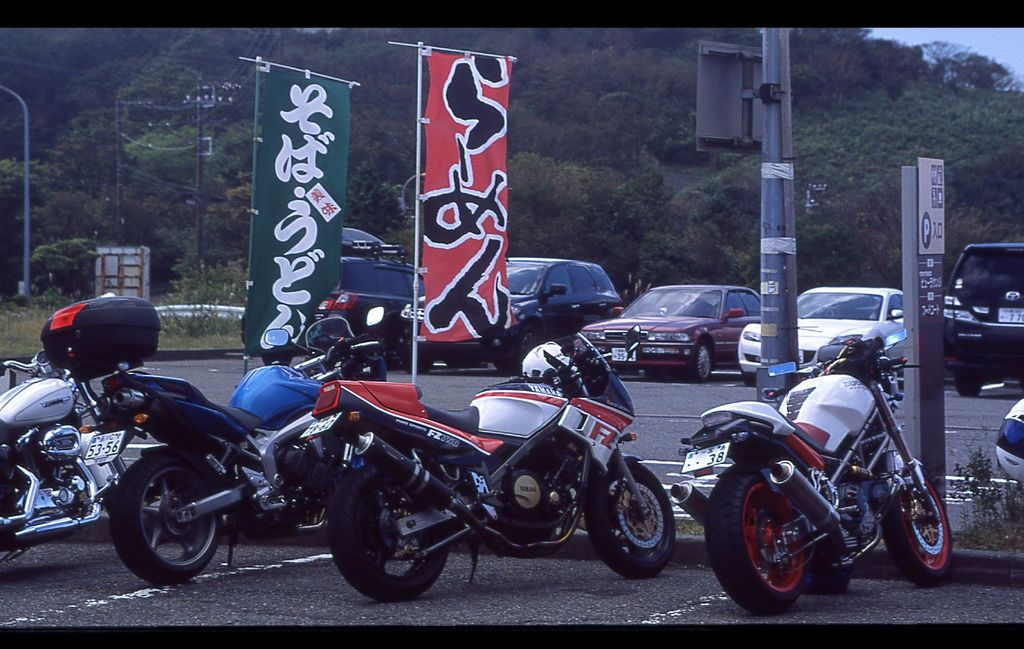Motorcycle: (281, 320, 673, 605), (75, 290, 386, 583), (673, 323, 952, 611), (1, 349, 120, 564)
